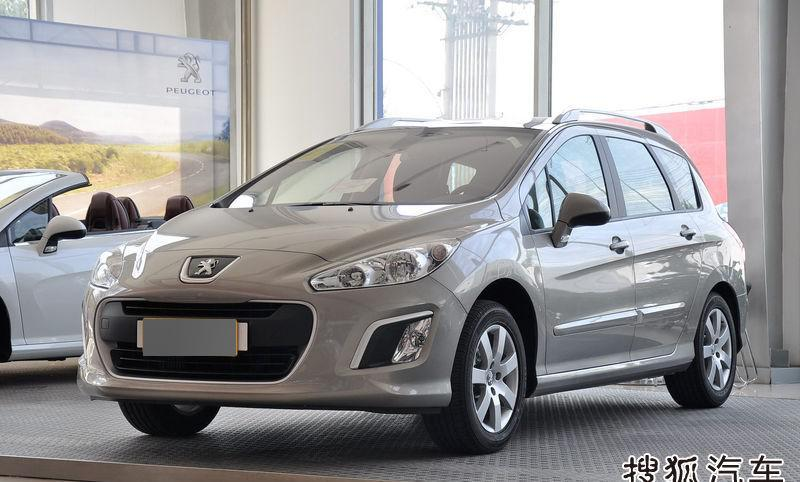Wagon: (73, 107, 749, 455)
